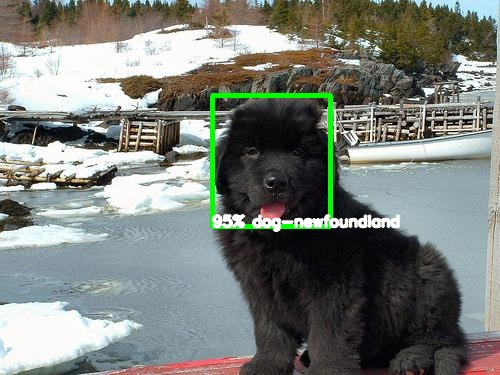dog-newfoundland: (211, 126, 338, 225)
